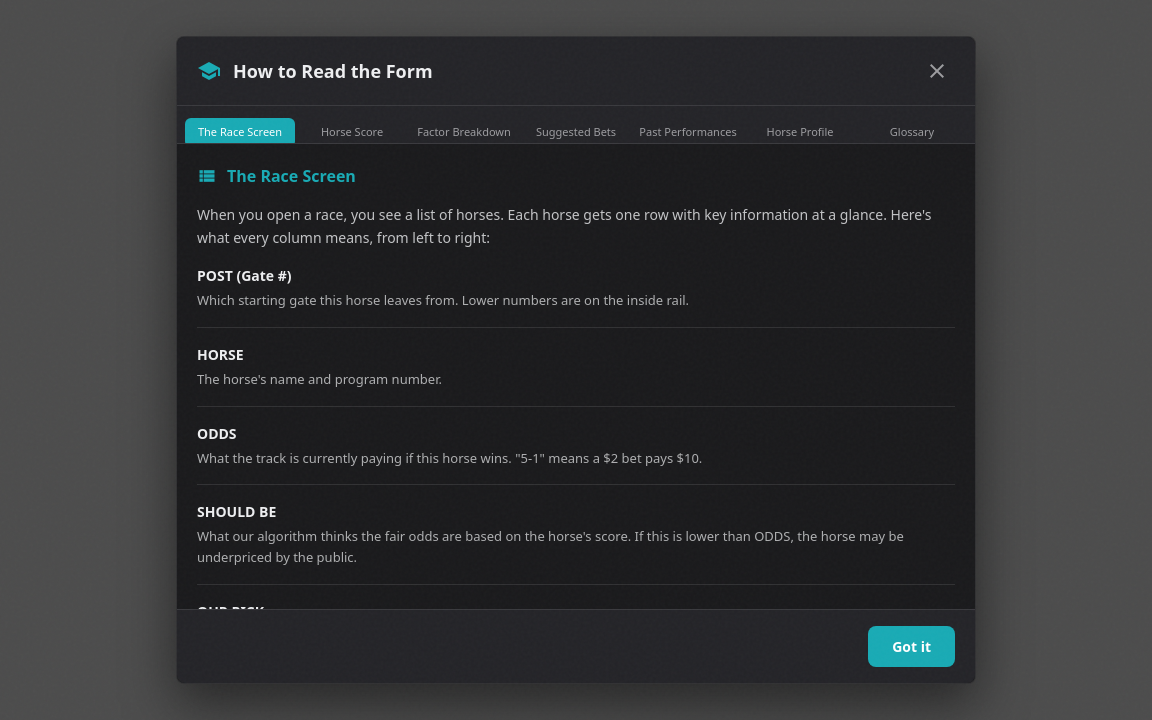
Scenario: ScoringHelpModal › Tab 2: Horse Score › explains the six category bars
Click the button "Horse Score" at (352, 132), box [297,118,407,146]
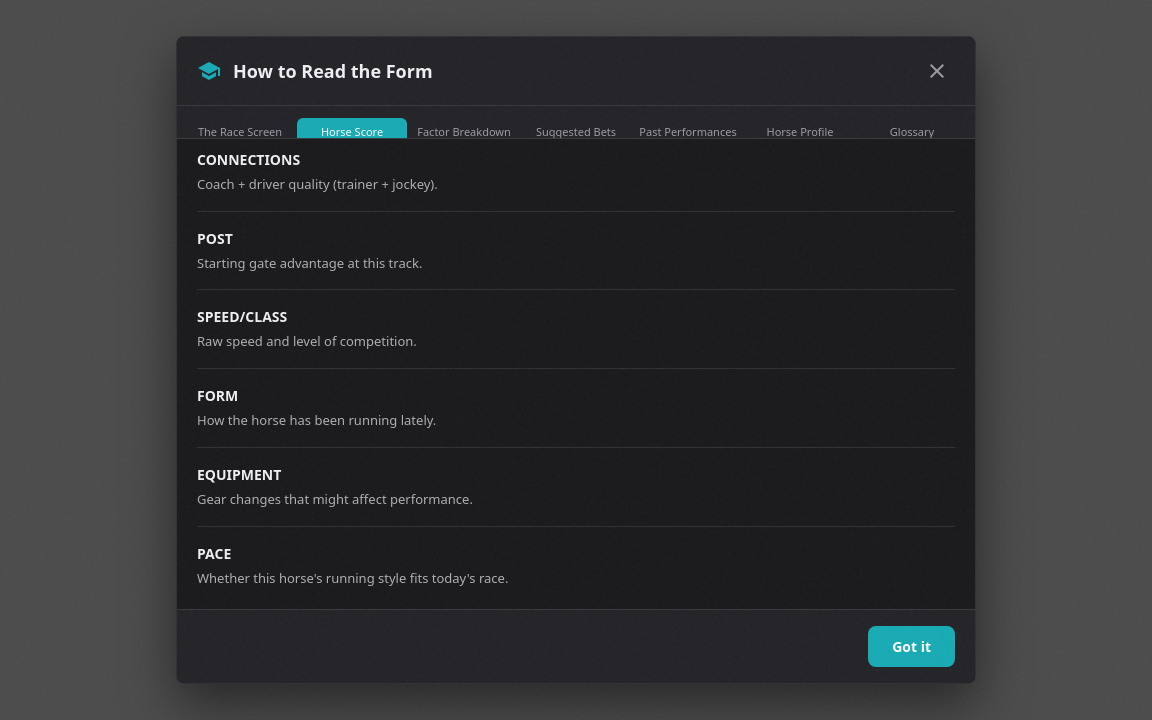
Now the text "CONNECTIONS" is shown, box [197,150,300,169]
Now the text "SPEED/CLASS" is shown, box [197,308,287,326]
Now the text "FORM" is shown, box [197,386,238,405]
